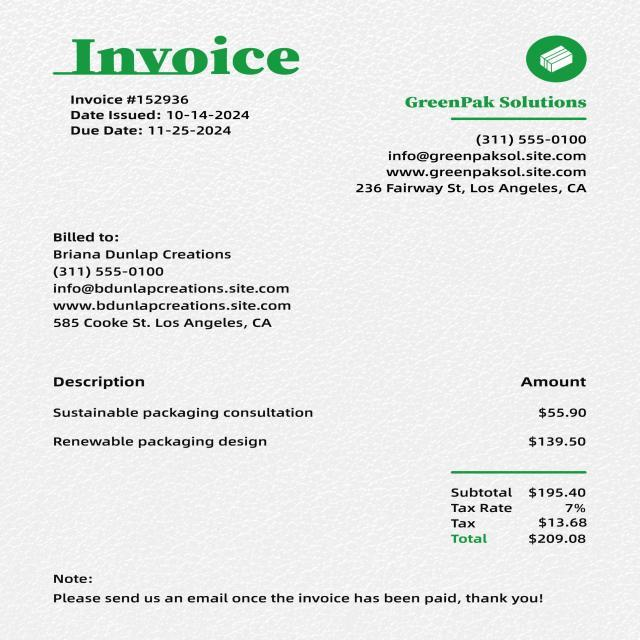ROI: (42, 371, 606, 458), (49, 224, 307, 349), (47, 568, 550, 625), (353, 131, 600, 226), (66, 89, 261, 158), (52, 31, 310, 83), (447, 474, 600, 560), (391, 89, 598, 125), (507, 24, 599, 86)
